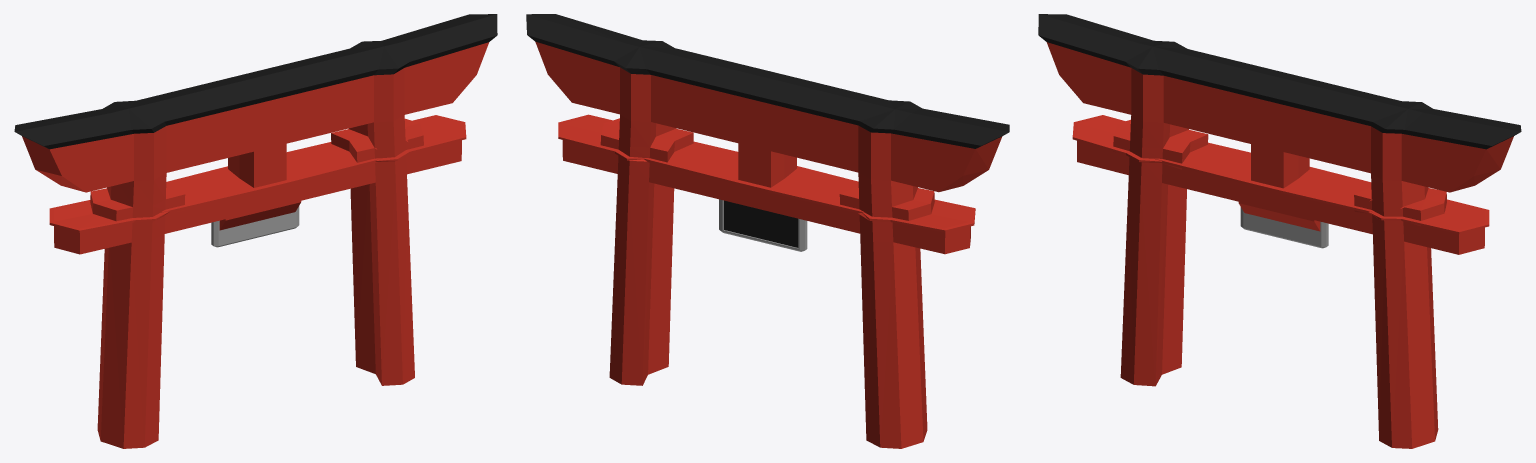
File: FinishLineGate.fbx
The picture shows the model from 3 angles, left to right: view 1: azimuth 30°, elevation 25°; view 2: azimuth 150°, elevation 25°; view 3: azimuth 330°, elevation 25°; orthographic projection.
Parts seen in each view (by area): view 1: FinishLineGate2; view 2: FinishLineGate2; view 3: FinishLineGate2.
Part boxes in pixels (x1,y1,x2,y2): FinishLineGate2: (14, 14, 497, 448); FinishLineGate2: (526, 14, 1009, 448); FinishLineGate2: (1038, 14, 1521, 448).
Bounding box in the file's own units: 10.73 × 7.02 × 1.51.
